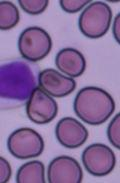L: (1, 58, 40, 108)
